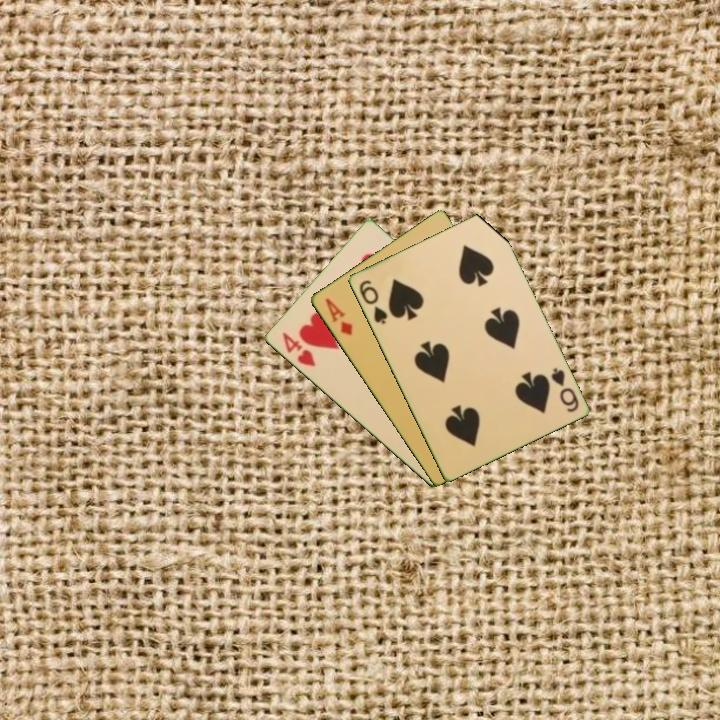4h: (278, 328, 318, 370)
6s: (355, 276, 390, 327), (547, 364, 581, 415)
Ad: (321, 294, 355, 338)
